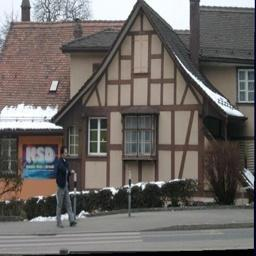building: (67, 5, 256, 211)
